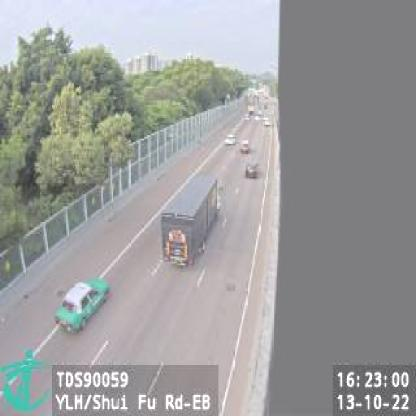Car: (53, 277, 112, 335), (244, 159, 258, 177), (240, 139, 250, 151), (226, 132, 236, 144)
Truck: (161, 174, 223, 268)
